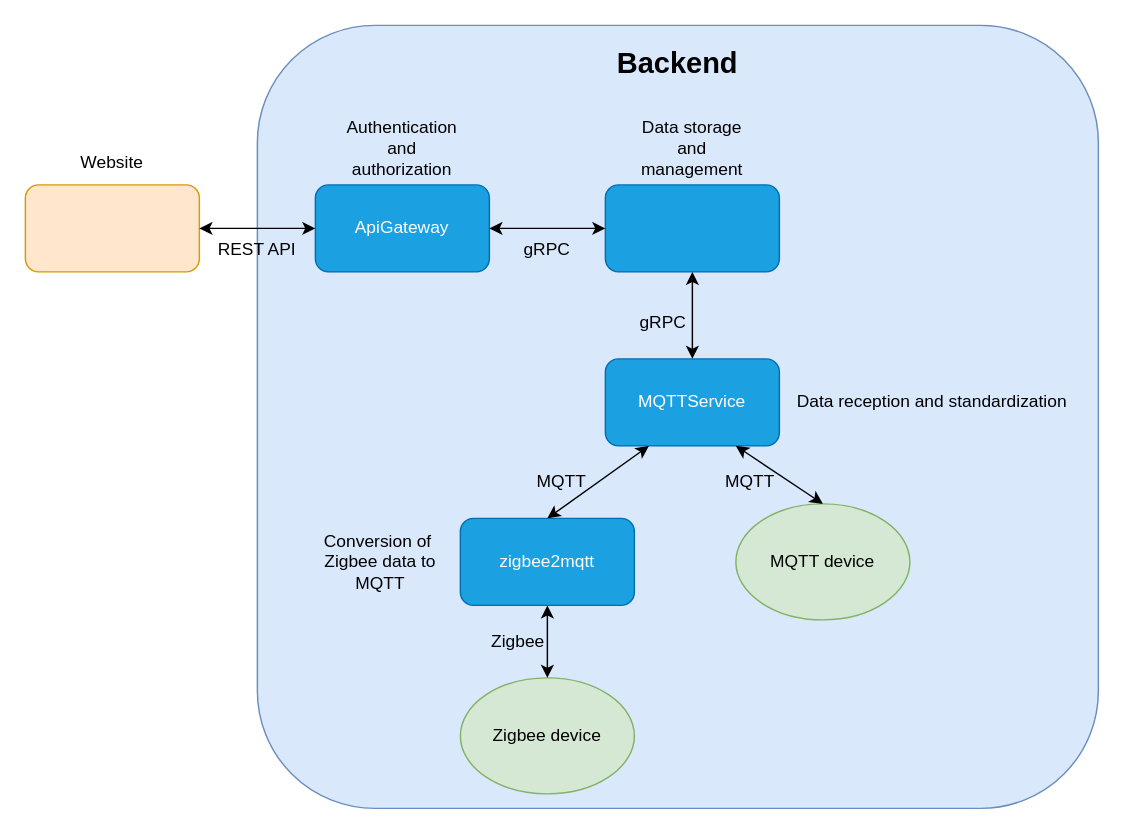
This 1124x834 diagram has some shape labels left out. The centre of each missing label's shape, as x and y in pixels:
DatabaseService: pixel 691 227
Frontend: pixel 111 227
